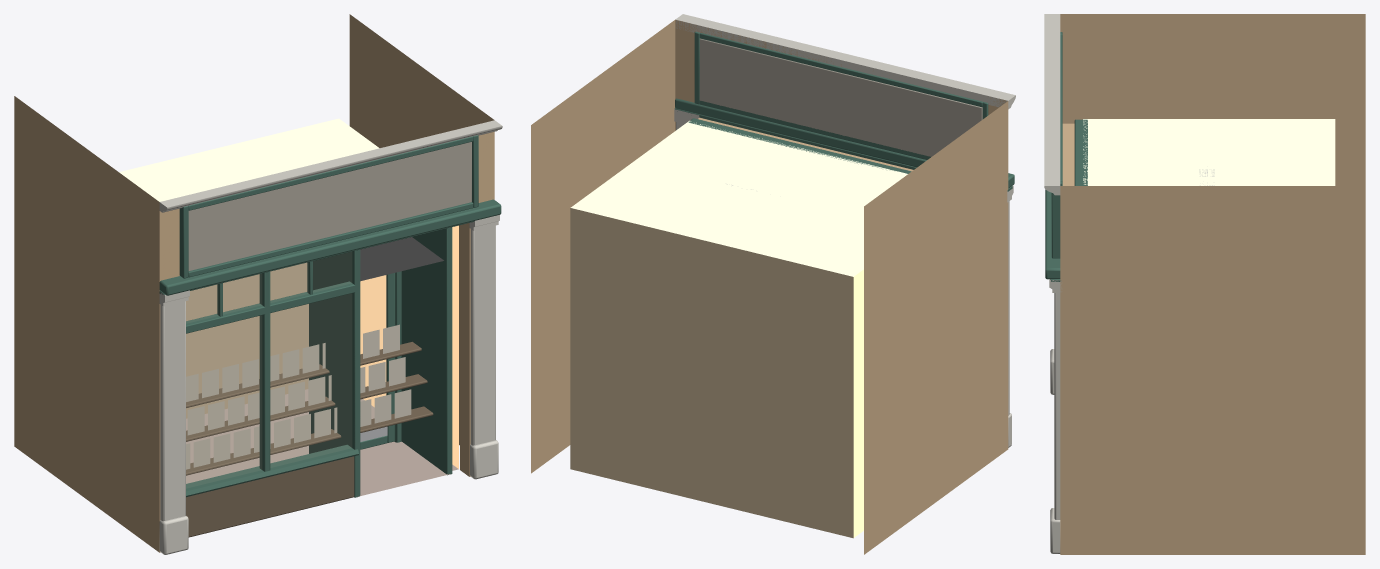
Rendered from shop_lit_4b.glb.
3 renders of one model, left to right at view 1: azimuth 30°, elevation 25°; view 2: azimuth 150°, elevation 25°; view 3: azimuth 270°, elevation 25°, orthographic. The views are drawn at different scales.
Parts seen in each view (by area): view 1: shop_lit_4b; view 2: shop_lit_4b; view 3: shop_lit_4b.
Part boxes in pixels (left/top/right/bottom): shop_lit_4b: left=14, top=14, right=502, bottom=554; shop_lit_4b: left=531, top=14, right=1015, bottom=554; shop_lit_4b: left=1044, top=14, right=1365, bottom=554.
Size of the model in its own units: 4 by 4 by 3.16.
